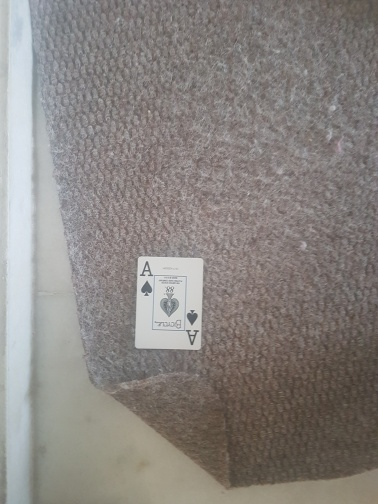ace: (134, 255, 203, 351)
